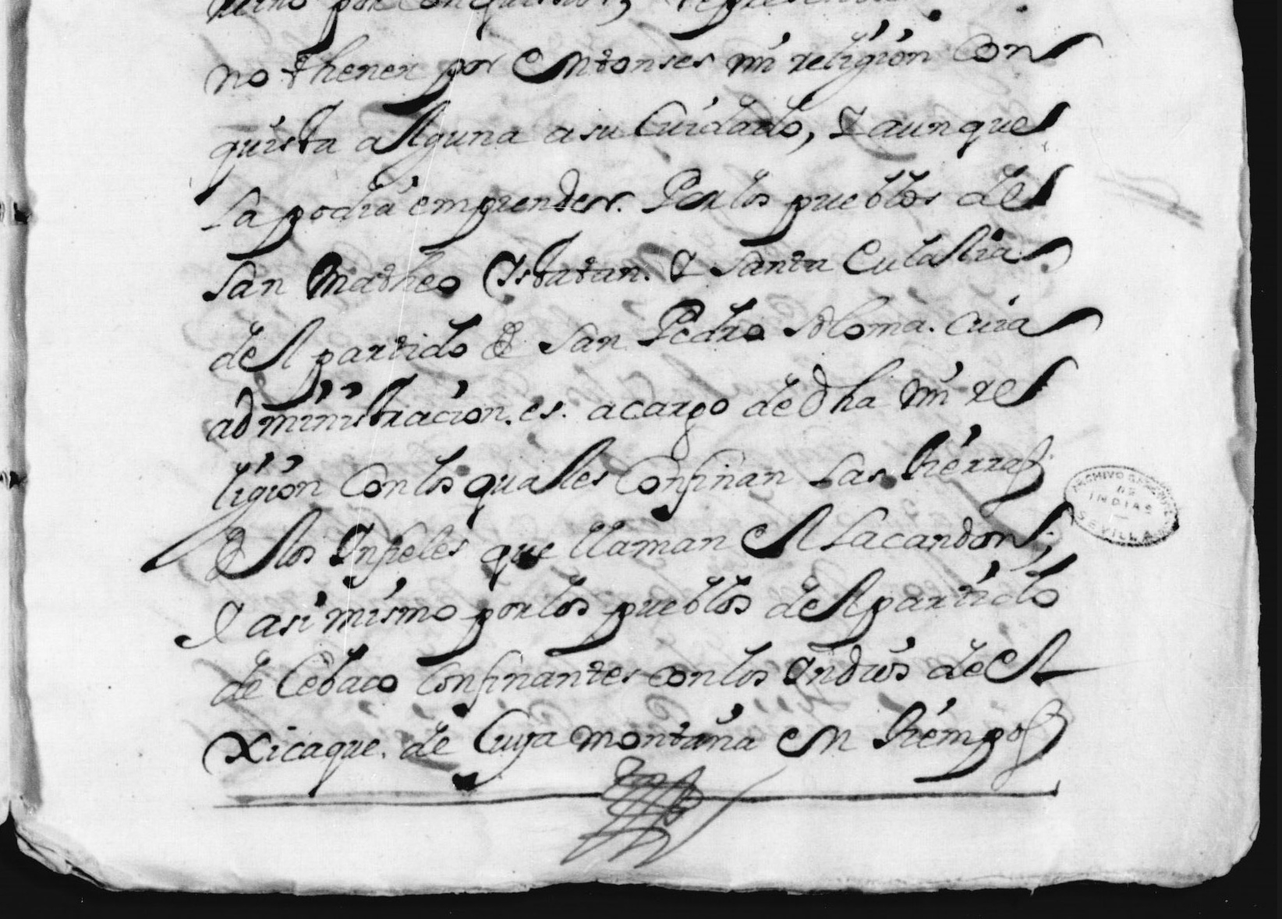lacandon: (820, 500, 1075, 551)
